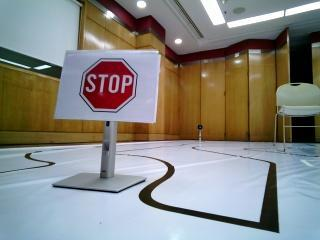stop: (77, 57, 145, 116)
